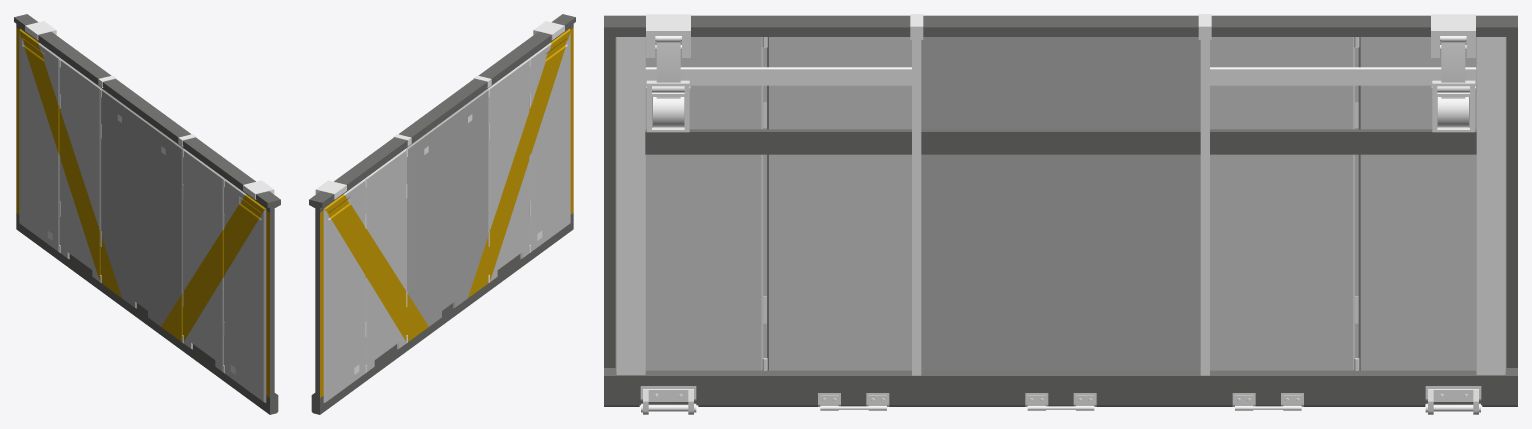
3 views of the same model, side by side, from view 1: azimuth 30°, elevation 25°; view 2: azimuth 150°, elevation 25°; view 3: azimuth 270°, elevation 25° (orthographic). The views are drawn at different scales.
Visible parts, largest first — view 1: SM_H_Customiz_FoldDoor_01A; view 2: SM_H_Customiz_FoldDoor_01A; view 3: SM_H_Customiz_FoldDoor_01A.
Boxes of the visible parts, x1,y1,x2,y2 form: SM_H_Customiz_FoldDoor_01A: (14,14,280,414); SM_H_Customiz_FoldDoor_01A: (309,14,575,414); SM_H_Customiz_FoldDoor_01A: (604,14,1517,414).
Size of the model in its own units: 393 by 16.9 by 185.
